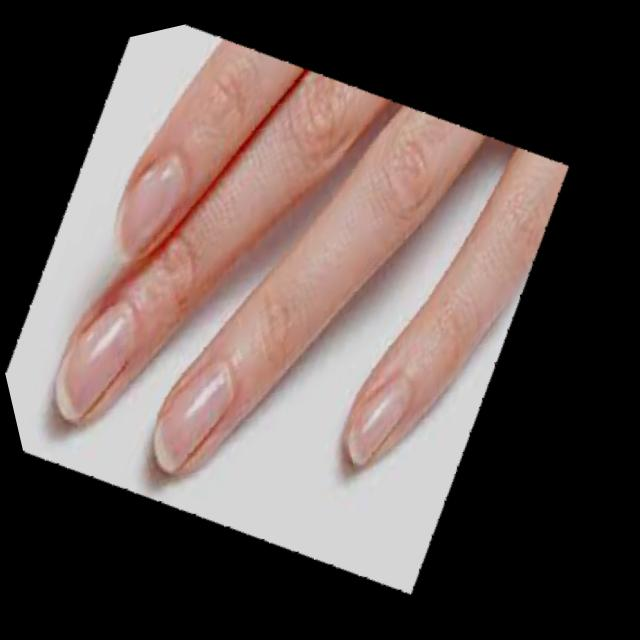Nail: (53, 303, 135, 421), (153, 363, 232, 472), (115, 151, 188, 258), (348, 377, 412, 465)
